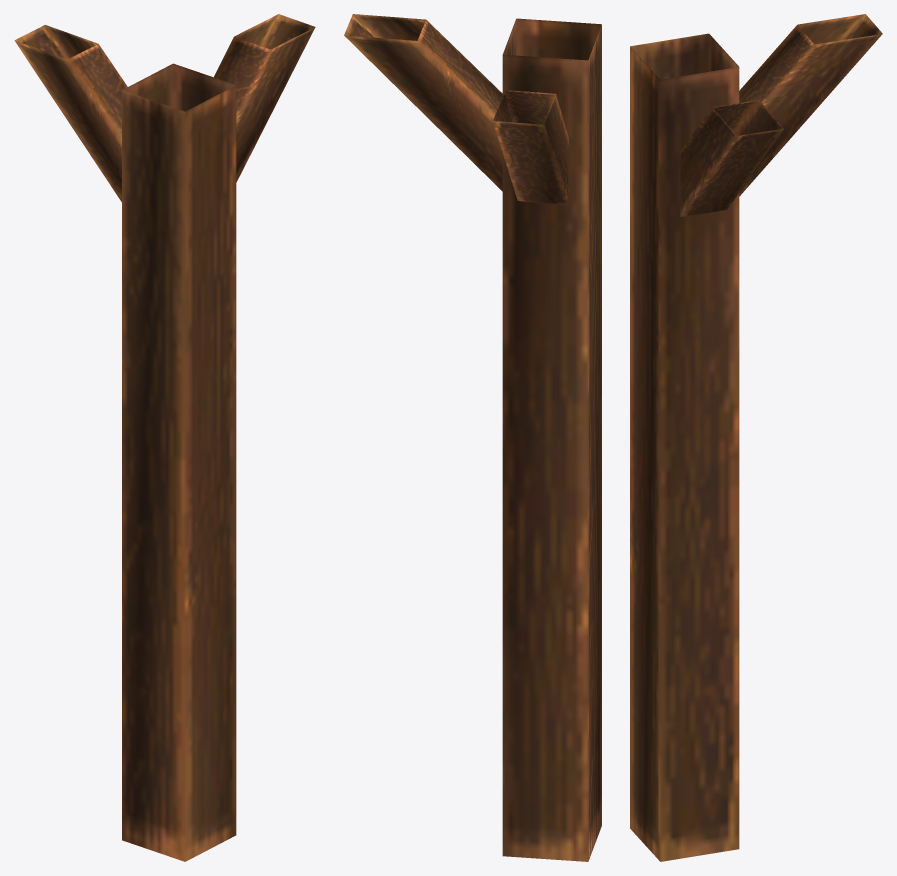
The model's file is SWORDLIGHT20_JAILPLATSUPPORT61.fbx.
The picture shows the model from 3 angles, left to right: view 1: azimuth 30°, elevation 25°; view 2: azimuth 150°, elevation 25°; view 3: azimuth 270°, elevation 25°; orthographic projection. The views are drawn at different scales.
Parts seen in each view (by area): view 1: SWORDLIGHT20_JAILPLATSUPPORT61; view 2: SWORDLIGHT20_JAILPLATSUPPORT61; view 3: SWORDLIGHT20_JAILPLATSUPPORT61.
Part boxes in pixels (x1,y1,x2,y2): SWORDLIGHT20_JAILPLATSUPPORT61: [14, 14, 315, 861]; SWORDLIGHT20_JAILPLATSUPPORT61: [344, 14, 601, 861]; SWORDLIGHT20_JAILPLATSUPPORT61: [630, 14, 882, 861].
Size of the model in its own units: 13630 by 40933 by 11943.
1 material, 1 textured.
